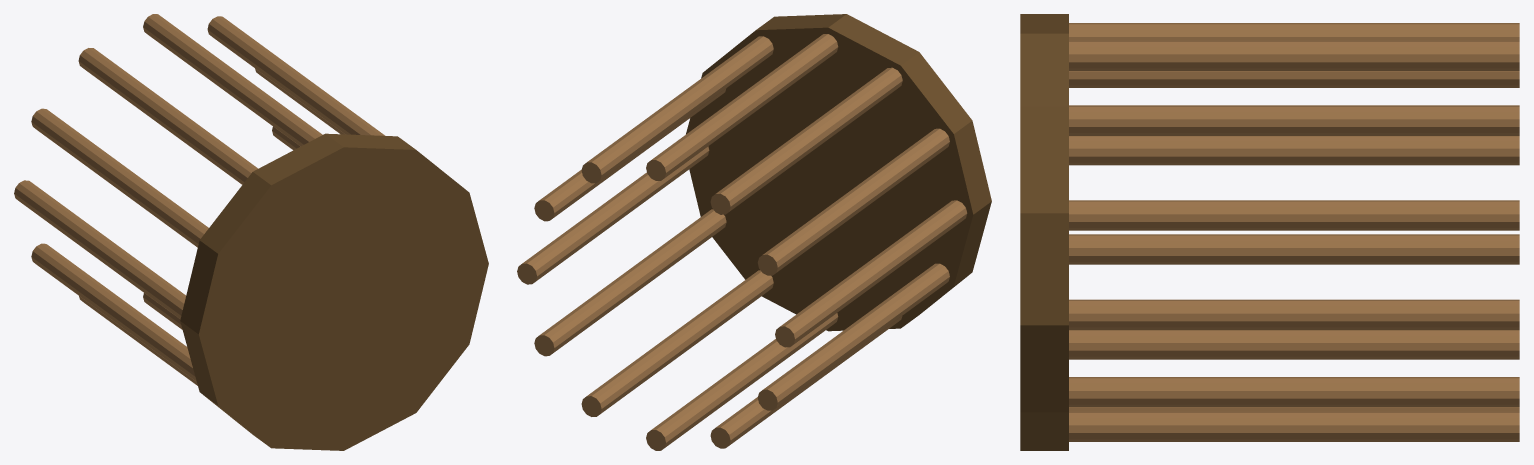
The model's file is basket_r0_01.glb.
3 views of the same model, side by side, from view 1: azimuth 30°, elevation 25°; view 2: azimuth 150°, elevation 25°; view 3: azimuth 270°, elevation 25° (orthographic). The views are drawn at different scales.
Visible parts, largest first — view 1: rim, weave5, weave4, weave6, weave3, weave7, weave2, weave8; view 2: rim, weave2, weave6, weave4, weave5, weave7, weave3, weave11, weave10, weave0, weave9, weave1 (+1 smaller); view 3: rim, weave0, weave1, weave2, weave3, weave7, weave10, weave11, weave6, weave8, weave4, weave5 (+1 smaller).
Boxes of the visible parts, x1,y1,x2,y2 form: rim: (180, 133, 488, 450); weave5: (31, 108, 208, 247); weave4: (78, 48, 258, 184); weave6: (14, 180, 185, 319); weave3: (143, 14, 322, 146); weave7: (31, 243, 196, 381); weave2: (207, 16, 385, 135); weave8: (79, 296, 197, 385); rim: (686, 14, 991, 331); weave2: (581, 36, 773, 183); weave6: (775, 200, 967, 347); weave4: (710, 67, 902, 214); weave5: (757, 128, 949, 275); weave7: (757, 263, 949, 410); weave3: (646, 34, 838, 180); weave11: (534, 209, 726, 356); weave10: (581, 270, 773, 416); weave0: (517, 146, 709, 284); weave9: (646, 313, 838, 450); weave1: (534, 88, 726, 221); rim: (1020, 14, 1068, 450); weave0: (1069, 299, 1519, 329); weave1: (1069, 200, 1519, 230); weave2: (1069, 105, 1519, 135); weave3: (1069, 40, 1519, 70); weave7: (1069, 234, 1519, 264); weave10: (1069, 411, 1519, 441); weave11: (1069, 377, 1519, 407); weave6: (1069, 136, 1519, 165); weave8: (1069, 330, 1519, 359); weave4: (1069, 23, 1519, 40); weave5: (1069, 71, 1519, 87).
Size of the model in its own units: 0.72 by 0.72 by 0.82.
